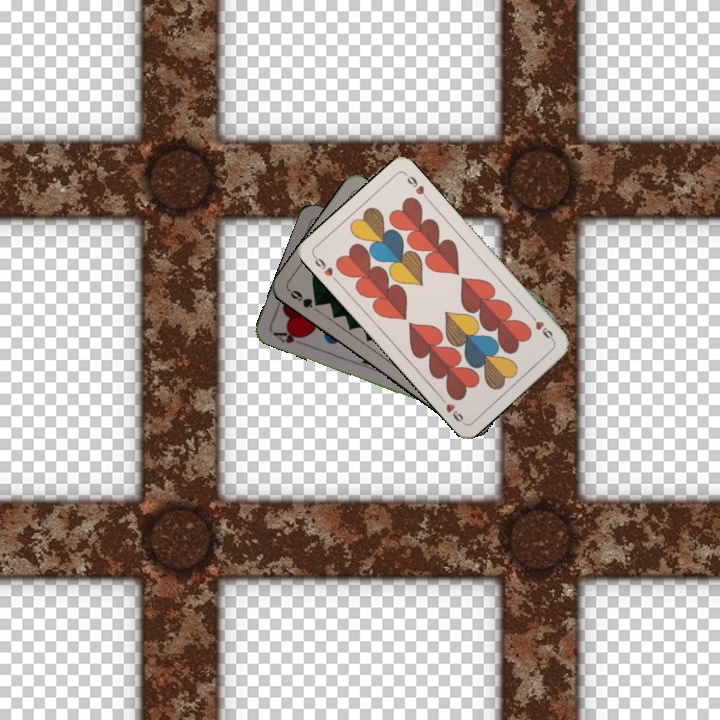G9: (285, 286, 324, 310)
H9: (309, 251, 340, 285), (526, 310, 557, 344)
HA: (269, 326, 308, 348)
